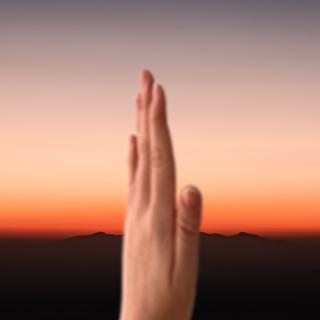Right: (110, 65, 211, 310)
